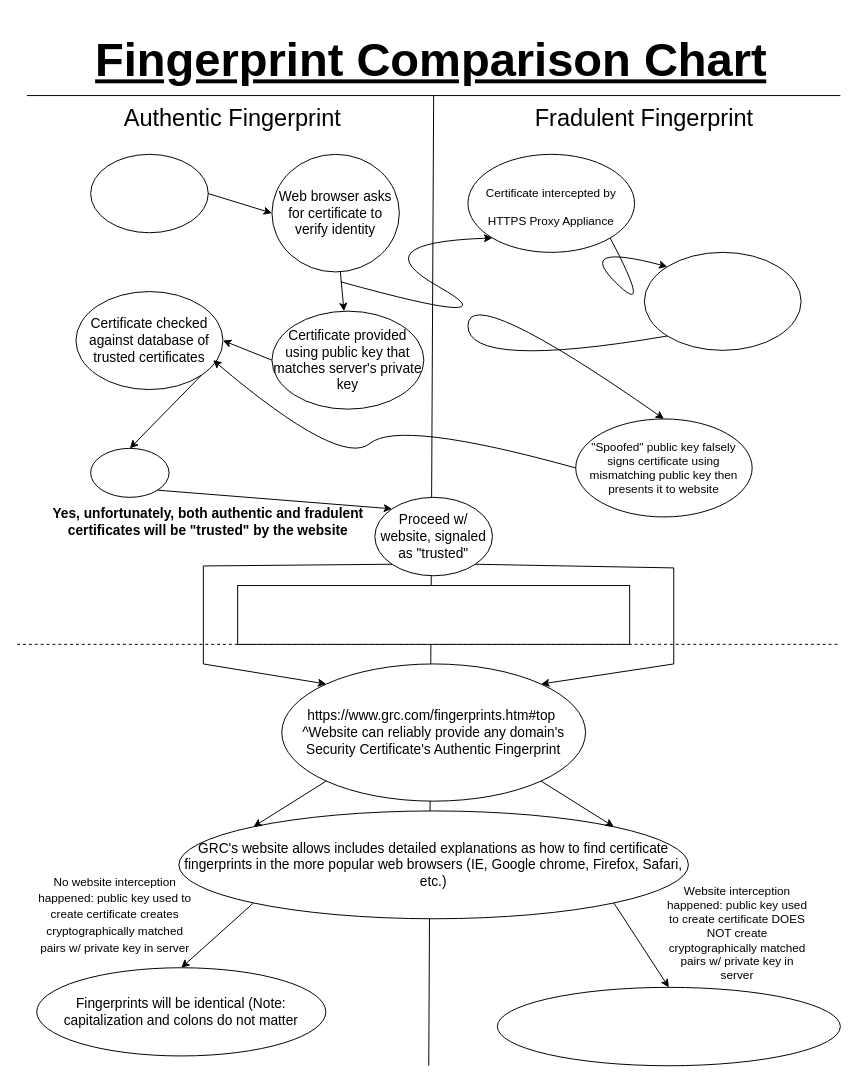
Image size: 858x1084. Some labels were removed from this diagram. The shapes that lost their labels are listed below. From the top down, each one's centre as x and y in pixels, then its label:
(x=149, y=193): Website opened on browser
(x=722, y=300): Any information can be logged, tracked, and analyzed
(x=129, y=472): Trusted?
(x=433, y=614): To check for fingerprint authenticity
(x=668, y=1026): HIGHLY LIKELY that fingerprints will not match: fradulent activity possible
